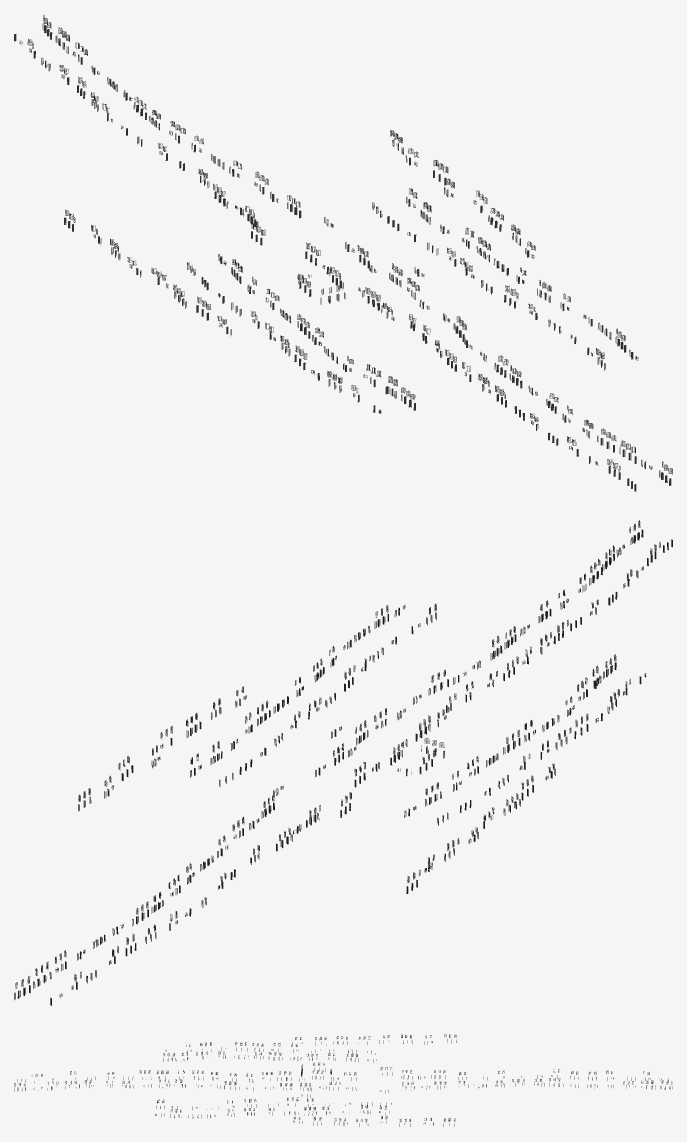
Rendered from canal_windows.glb.
3 views of the same model, one above another, from view 1: azimuth 30°, elevation 25°; view 2: azimuth 150°, elevation 25°; view 3: azimuth 270°, elevation 25° (orthographic). The views are drawn at different scales.
Visible parts, largest first — view 1: canal_windows2, canal_windows3, canal_windows1, canal_windows5, canal_windows6, canal_windows4, canal_windows0, canal_windows7; view 2: canal_windows3, canal_windows2, canal_windows1, canal_windows5, canal_windows6, canal_windows4, canal_windows0, canal_windows7; view 3: canal_windows3, canal_windows1, canal_windows6, canal_windows2, canal_windows4, canal_windows5, canal_windows0, canal_windows7.
Part boxes in pixels (x1,y1,x2,y2): canal_windows2: [159, 151, 672, 491]; canal_windows3: [14, 14, 242, 290]; canal_windows1: [213, 171, 508, 393]; canal_windows5: [351, 188, 551, 413]; canal_windows6: [64, 137, 638, 370]; canal_windows4: [218, 259, 381, 402]; canal_windows0: [297, 242, 429, 320]; canal_windows7: [390, 130, 535, 258]; canal_windows3: [14, 782, 471, 1005]; canal_windows2: [200, 520, 672, 889]; canal_windows1: [232, 632, 551, 851]; canal_windows5: [190, 654, 646, 786]; canal_windows6: [78, 603, 555, 893]; canal_windows4: [425, 677, 627, 795]; canal_windows0: [315, 707, 449, 787]; canal_windows7: [78, 686, 246, 801]; canal_windows3: [346, 1050, 672, 1089]; canal_windows1: [157, 1067, 446, 1097]; canal_windows6: [155, 1034, 456, 1126]; canal_windows2: [14, 1070, 504, 1091]; canal_windows4: [187, 1042, 357, 1060]; canal_windows5: [163, 1044, 391, 1115]; canal_windows0: [262, 1062, 356, 1091]; canal_windows7: [293, 1116, 455, 1126].
Size of the model in its own units: 106 by 5.4 by 346.
Materials: 1 (1 with a texture image).
